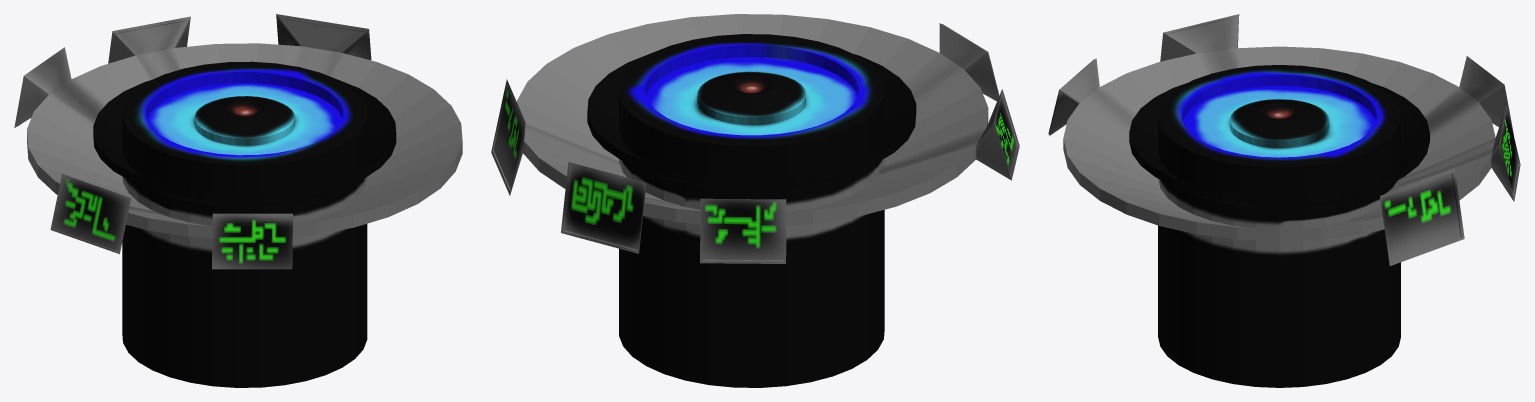
The model's file is SecurityPanel.glb.
3 renders of one model, left to right at view 1: azimuth 30°, elevation 25°; view 2: azimuth 150°, elevation 25°; view 3: azimuth 270°, elevation 25°, orthographic. The views are drawn at different scales.
Visible parts, largest first — view 1: Cylinder; view 2: Cylinder; view 3: Cylinder.
Part boxes in pixels (x1,y1,x2,y2): Cylinder: (14, 14, 462, 387); Cylinder: (491, 14, 1019, 387); Cylinder: (1048, 14, 1520, 387).
Size of the model in its own units: 3.82 by 2.05 by 3.88.
1 material, 1 textured.
